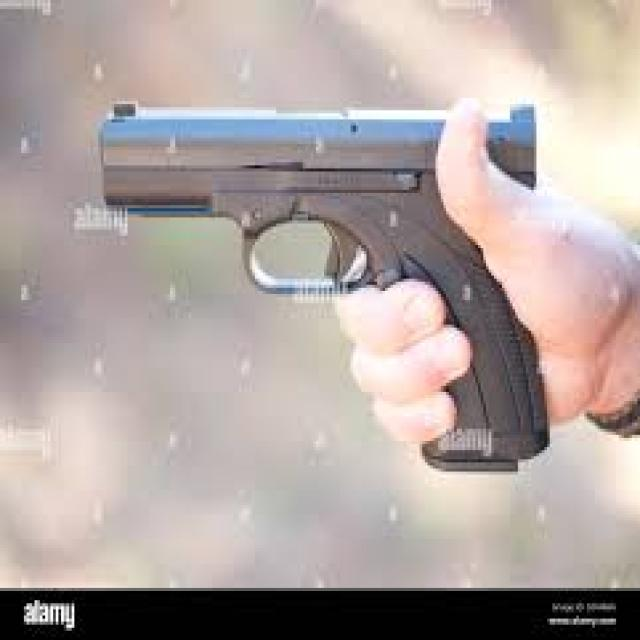Gun: (72, 62, 604, 473)
